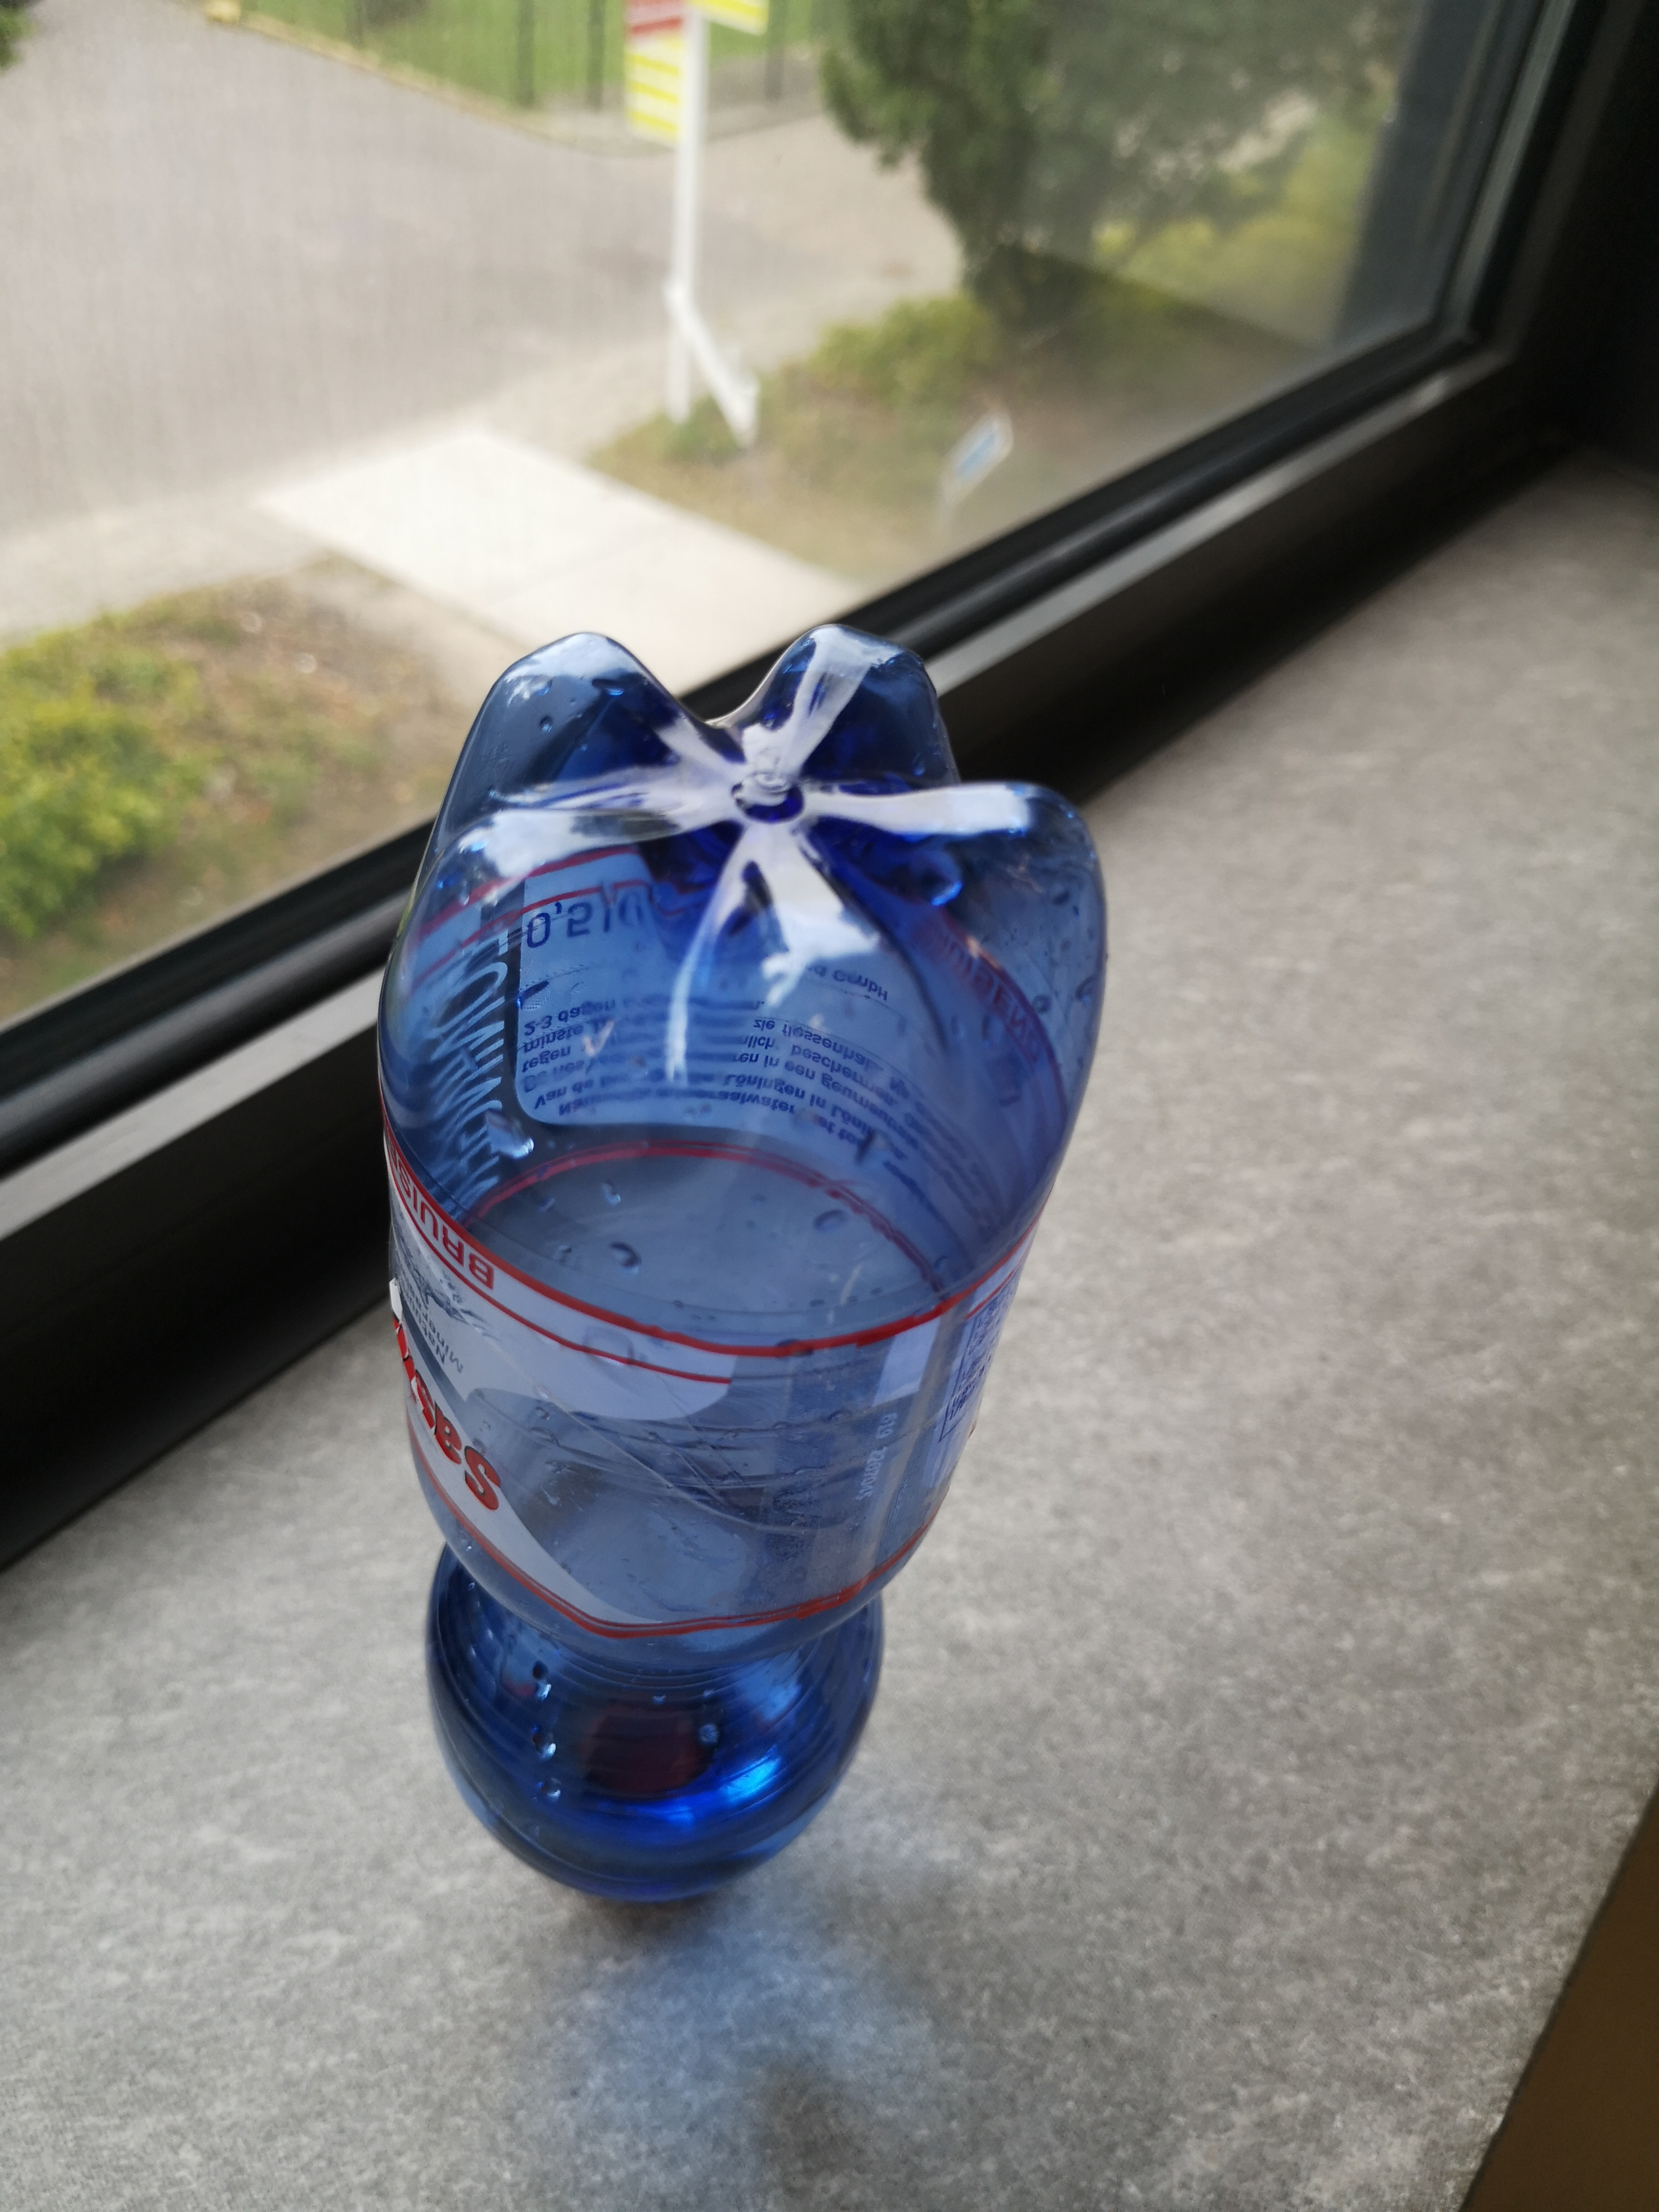plastic_bottle: (342, 575, 1154, 1940)
